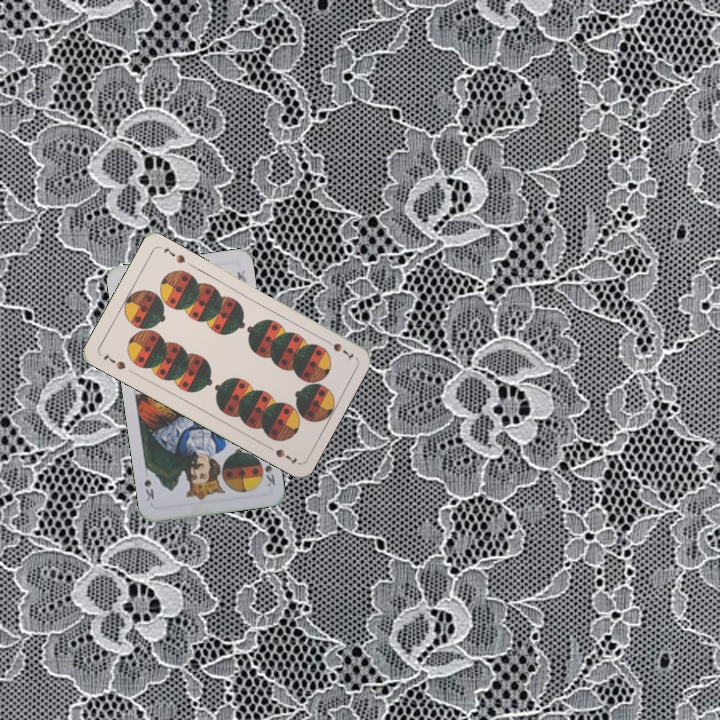S7: (320, 335, 356, 363), (100, 351, 128, 372)
SK: (261, 461, 278, 489)
